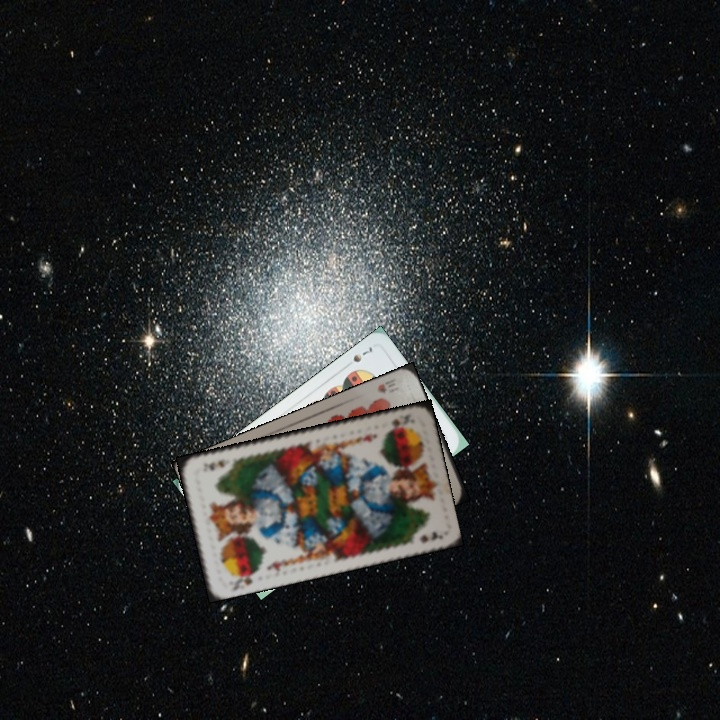H10: (373, 374, 402, 396)
S7: (349, 342, 375, 365)
SK: (229, 567, 259, 592), (384, 411, 410, 433)
